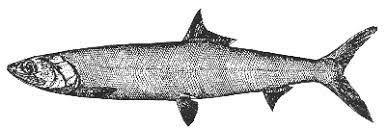Tenpounder: (10, 8, 388, 128)
